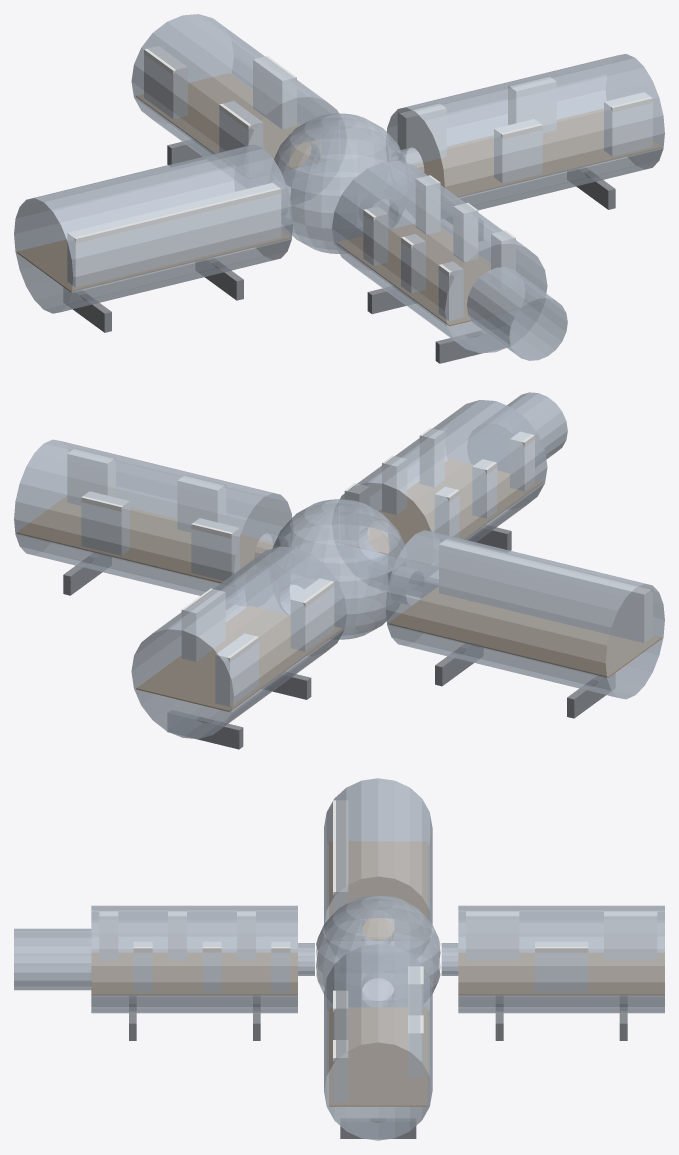
File: primary_concept_lod2.glb
3 views of the same model, one above another, from view 1: azimuth 30°, elevation 25°; view 2: azimuth 150°, elevation 25°; view 3: azimuth 270°, elevation 25° (orthographic). The views are drawn at different scales.
Parts seen in each view (by area): view 1: module_food_hull, module_crew_hull, module_eclss_hull, module_lab_hull, food_0_autonomous_hydroponic_towers_body, node_hull, deck_crew_body, airlock_hull, module_eclss_cap_end, module_food_cap_end, deck_lab_body, module_lab_cap_end (+28 smaller); view 2: module_food_hull, module_crew_hull, module_lab_hull, module_eclss_hull, food_0_autonomous_hydroponic_towers_body, deck_food_body, node_hull, module_lab_cap_end, deck_lab_body, deck_crew_body, module_food_cap_end, deck_eclss_body (+27 smaller); view 3: module_lab_hull, module_eclss_hull, module_crew_hull, module_food_hull, module_crew_cap_end, deck_crew_body, node_hull, deck_eclss_body, deck_lab_body, deck_food_body, module_food_cap_end, airlock_hull (+19 smaller).
Boxes of the visible parts, <box> form: module_food_hull: <box>14,144,293,313</box>; module_crew_hull: <box>387,54,664,210</box>; module_eclss_hull: <box>332,161,546,352</box>; module_lab_hull: <box>131,14,338,156</box>; food_0_autonomous_hydroponic_towers_body: <box>67,183,281,287</box>; node_hull: <box>274,113,406,253</box>; deck_crew_body: <box>414,108,661,200</box>; airlock_hull: <box>467,267,567,360</box>; module_eclss_cap_end: <box>445,243,547,353</box>; module_food_cap_end: <box>14,198,73,313</box>; deck_lab_body: <box>136,73,329,168</box>; module_lab_cap_end: <box>132,14,233,123</box>; module_food_hull: <box>385,530,664,698</box>; module_crew_hull: <box>14,439,291,595</box>; module_lab_hull: <box>132,546,346,738</box>; module_eclss_hull: <box>340,400,547,542</box>; food_0_autonomous_hydroponic_towers_body: <box>439,539,652,642</box>; deck_food_body: <box>388,586,662,677</box>; node_hull: <box>272,499,404,639</box>; module_lab_cap_end: <box>131,629,233,738</box>; deck_lab_body: <box>136,606,341,711</box>; deck_crew_body: <box>17,496,272,582</box>; module_food_cap_end: <box>605,584,664,699</box>; deck_eclss_body: <box>358,459,542,564</box>; module_lab_hull: <box>458,905,664,1013</box>; module_eclss_hull: <box>91,905,297,1013</box>; module_crew_hull: <box>324,944,432,1140</box>; module_food_hull: <box>324,778,432,924</box>; module_crew_cap_end: <box>324,1042,432,1140</box>; deck_crew_body: <box>329,1007,427,1106</box>; node_hull: <box>316,895,440,1001</box>; deck_eclss_body: <box>91,953,297,995</box>; deck_lab_body: <box>458,953,664,995</box>; deck_food_body: <box>329,841,427,940</box>; module_food_cap_end: <box>324,778,431,845</box>; airlock_hull: <box>14,928,91,990</box>.
Size of the model in its own units: 24.2 by 5.3 by 25.2.
